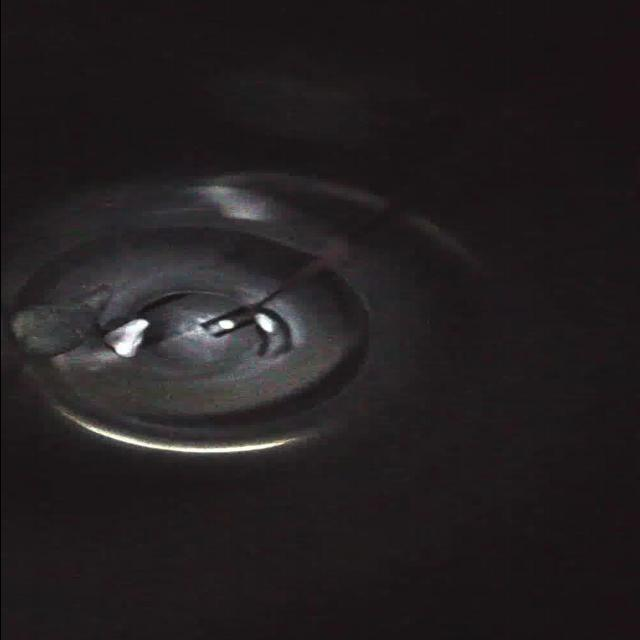impurity: (5, 304, 96, 362), (102, 313, 154, 360)
